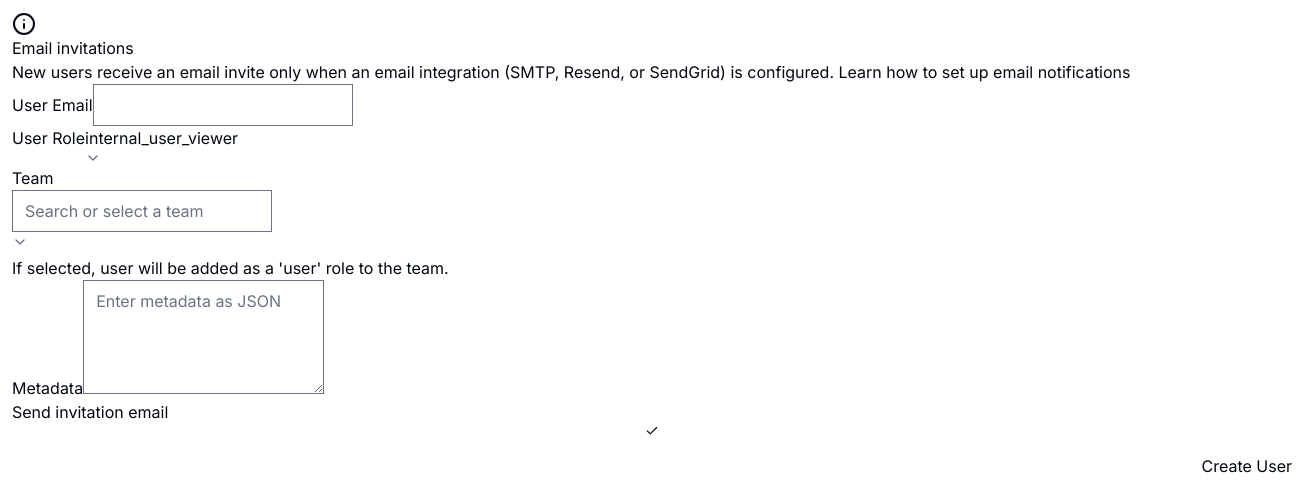
CreateUserButton › rendering and visibility › should display user role options when possibleUIRoles is provided
Click the dropdown named "user role". click: (162,146)
box: [85, 126, 238, 166]
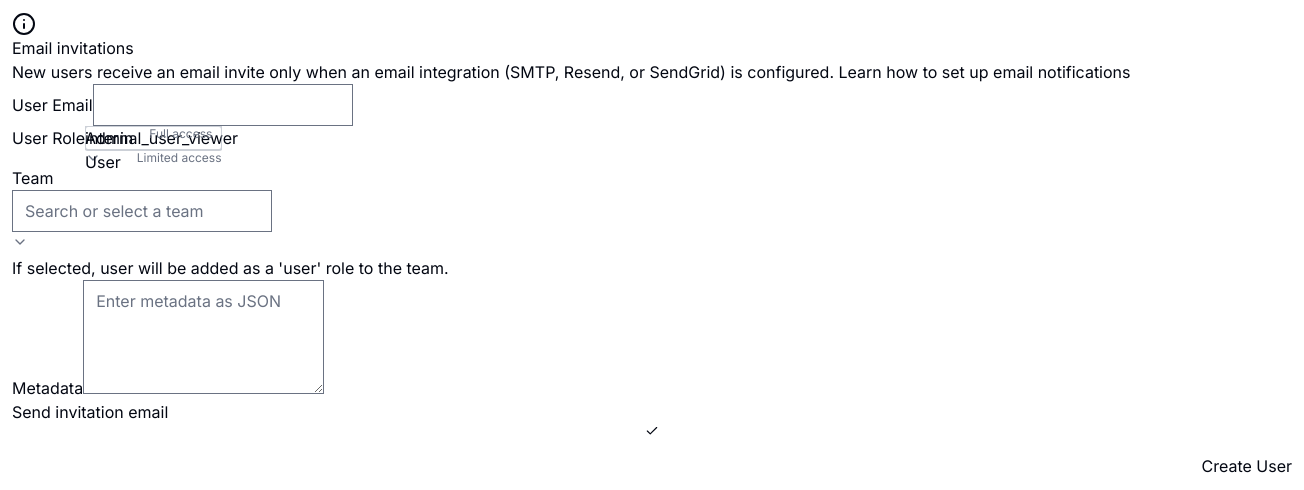
Check: the text "Admin" is shown, box [85, 126, 133, 150]
Check: the text "User" is shown, box [85, 150, 121, 174]
